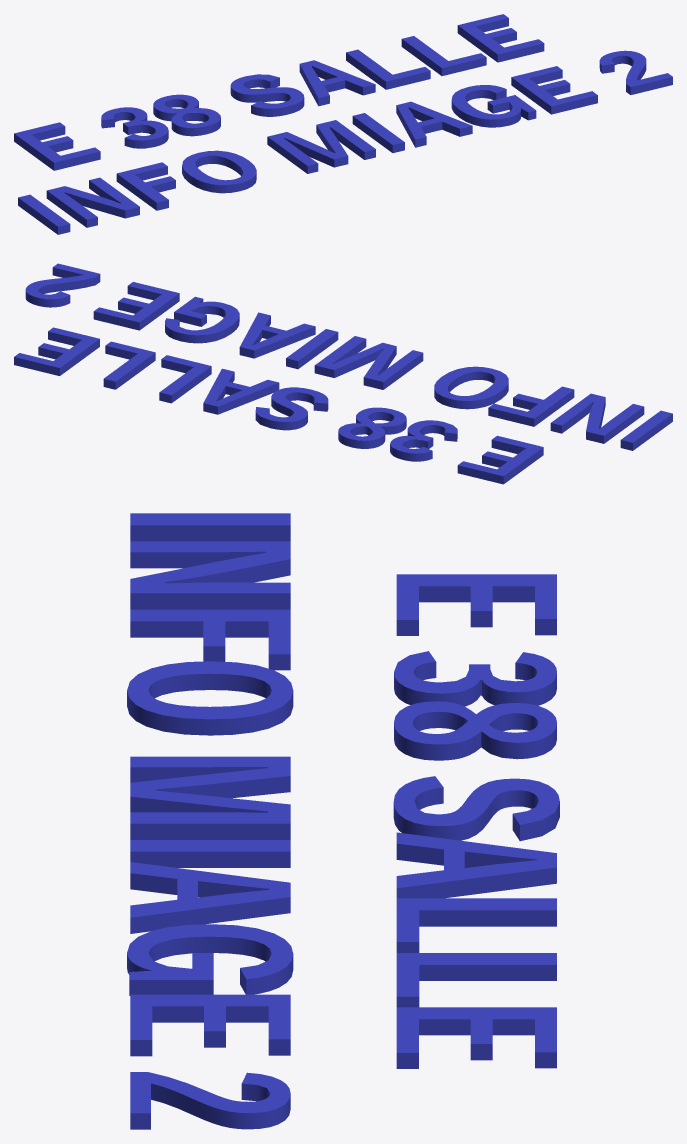
File: e38salleinfomiage2.fbx
The picture shows the model from 3 angles, top to bottom: view 1: azimuth 30°, elevation 25°; view 2: azimuth 150°, elevation 25°; view 3: azimuth 270°, elevation 25°; orthographic projection. The views are drawn at different scales.
Visible parts, largest first — view 1: node_id298 (×2); view 2: node_id298 (×2); view 3: node_id298 (×2).
Boxes of the visible parts, <box> form: node_id298 (×2): <box>14,14,672,234</box>; node_id298 (×2): <box>14,263,672,484</box>; node_id298 (×2): <box>127,513,559,1129</box>.
Bounding box in the file's own units: 1.49 × 0.0188 × 0.4526.
